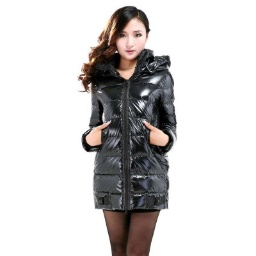face: (74, 1, 159, 93)
